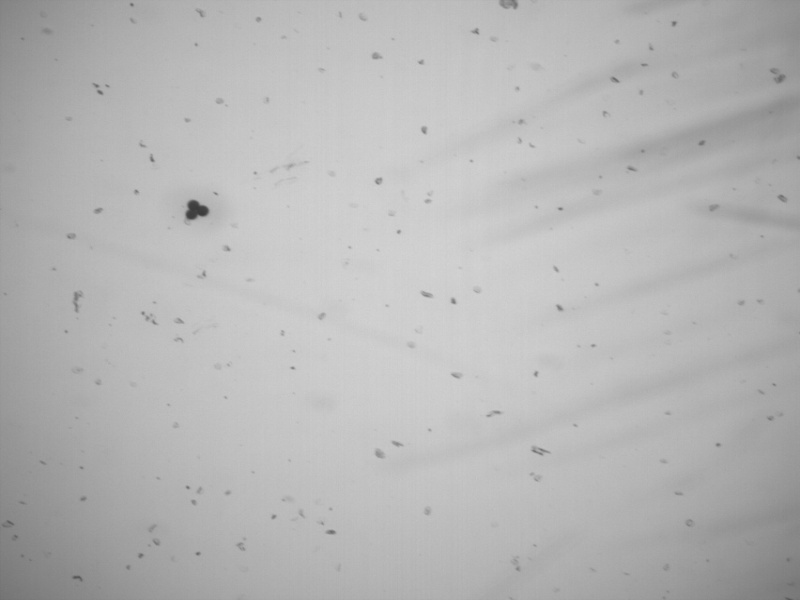bead: (196, 204, 210, 217), (187, 199, 201, 211), (185, 209, 198, 221)
